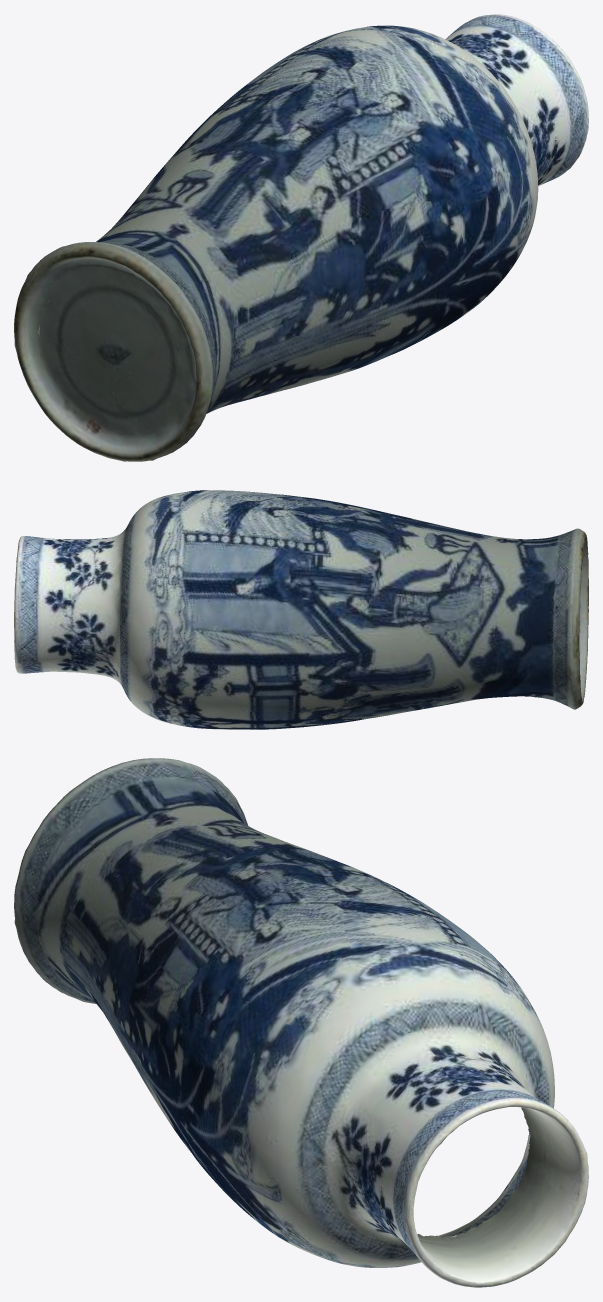
File: smithsonian-Baluster_vase_from_a_five-piece_garniture_F1980.190-.194_.glb
3 views of the same model, one above another, from view 1: azimuth 30°, elevation 25°; view 2: azimuth 150°, elevation 25°; view 3: azimuth 270°, elevation 25° (orthographic). The views are drawn at different scales.
Visible parts, largest first — view 1: Mesh_0; view 2: Mesh_0; view 3: Mesh_0.
Boxes of the visible parts, x1,y1,x2,y2 form: Mesh_0: (14, 14, 588, 461); Mesh_0: (14, 490, 588, 729); Mesh_0: (14, 758, 588, 1287).
Bounding box in the file's own units: 0.4105 × 0.1709 × 0.278.
1 material, 1 textured.
